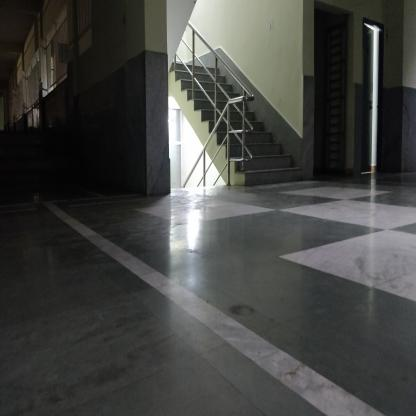stairs: (254, 133, 274, 192)
